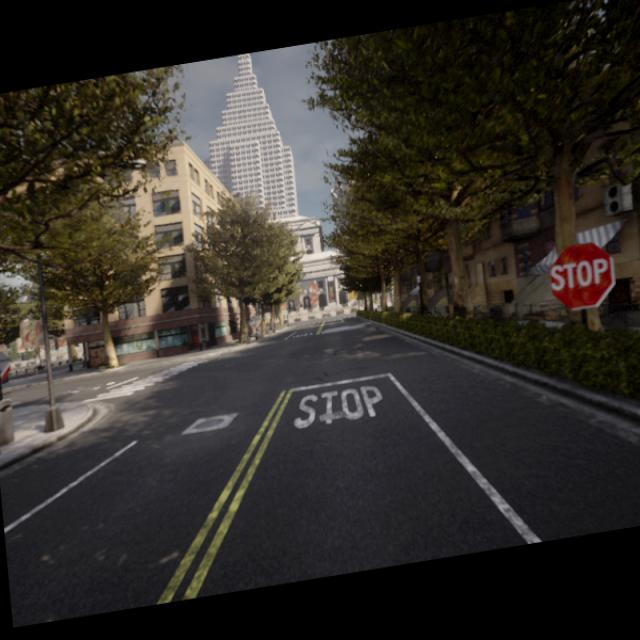stop sign: (546, 239, 617, 311), (550, 255, 608, 292)
